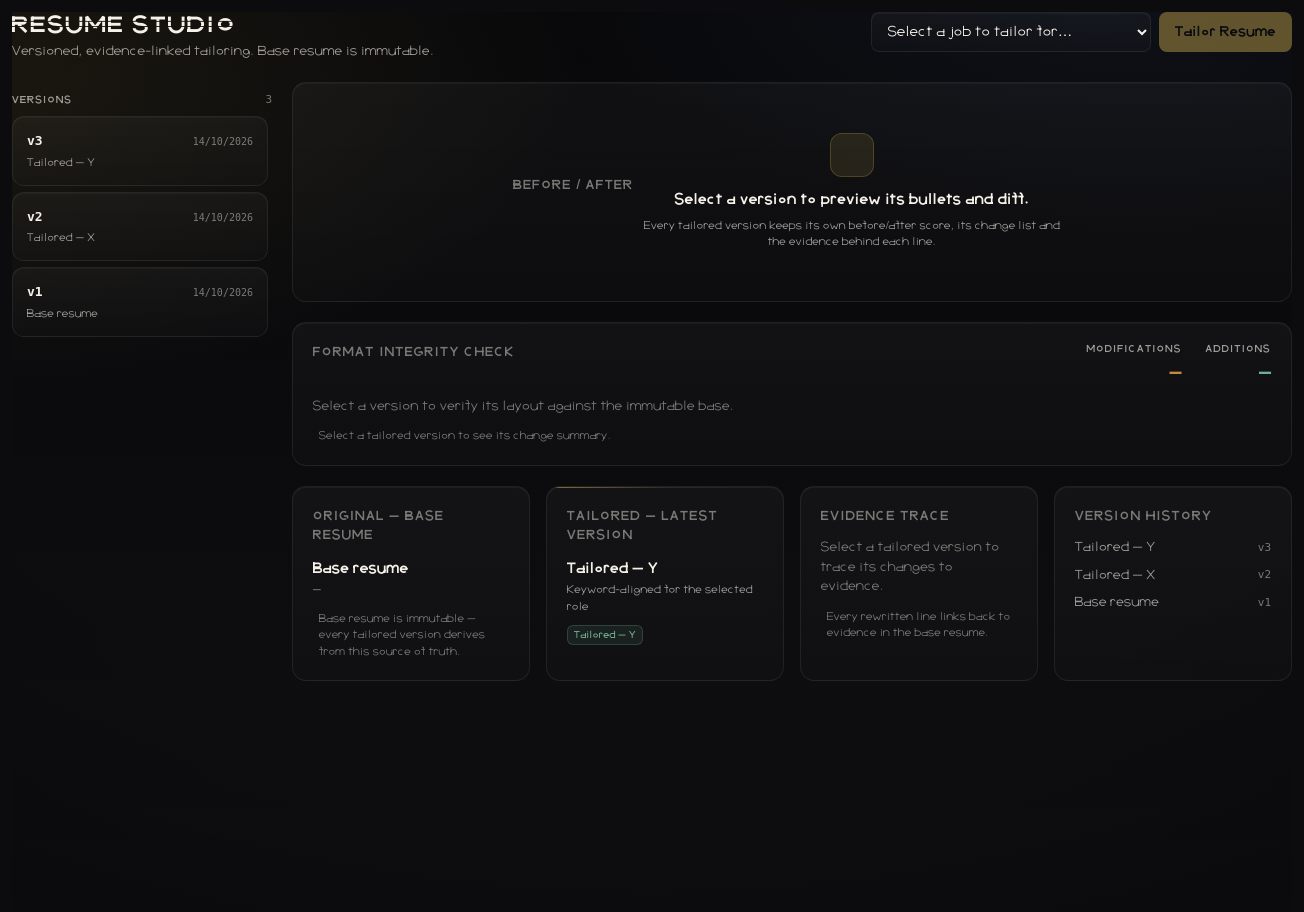
MV-resume-studio-004 — format integrity reflects a real signal › is green when the version's formatHash matches the base, amber when it differs
Check: the text with test id "integrity-status" shows "Select a version", box [313,400,734,413]
Note: Select the format-intact version → green "matches the base".
Click the button with test id "resume-version-card" at (140,227), box [12,192,268,261]
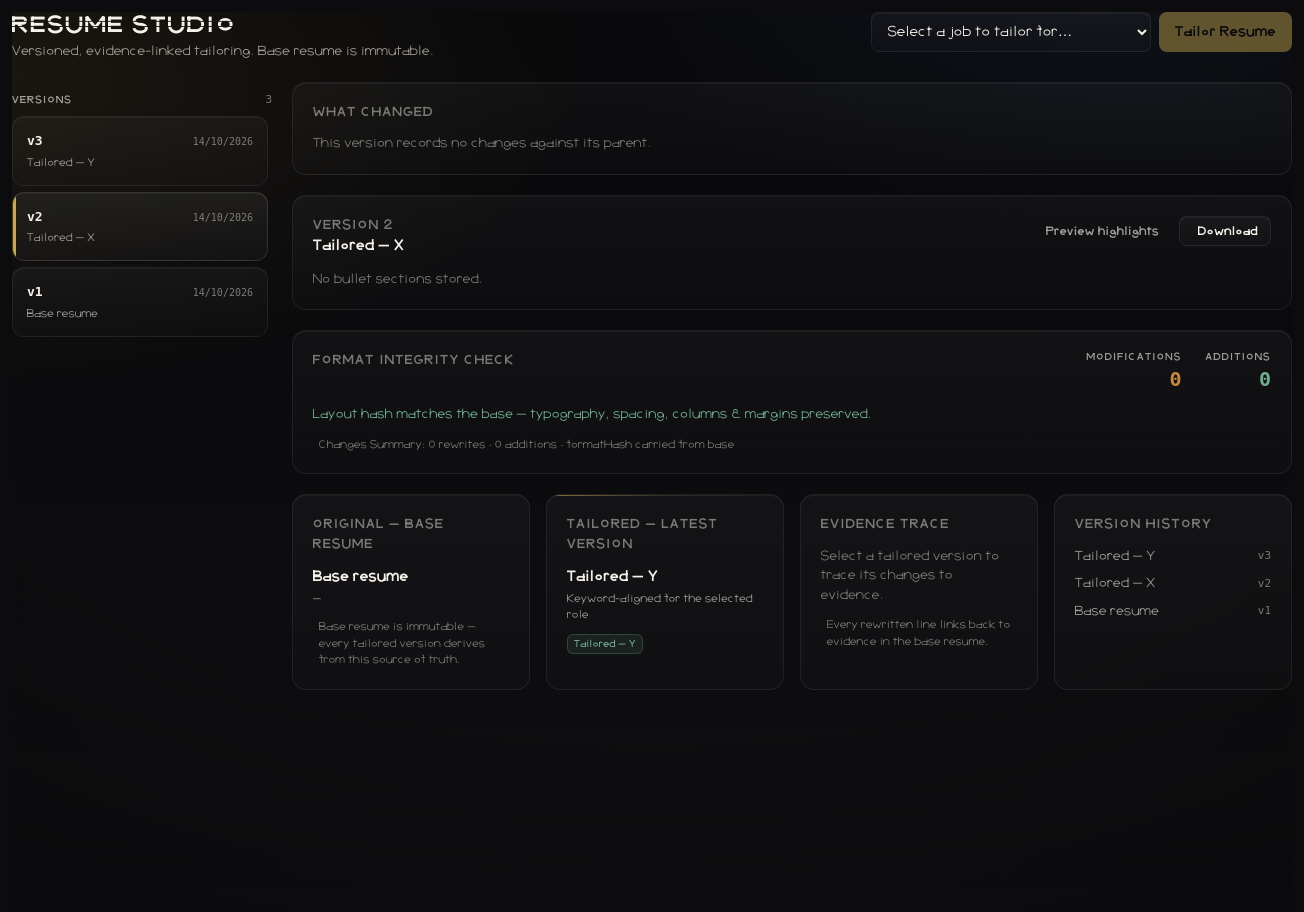
Check: the text with test id "integrity-status" shows "matches the base", box [313,408,872,421]
Note: Select the format-diverged version → amber "differs from the base".
Click the button with test id "resume-version-card" at (140,151), box [12,116,268,186]
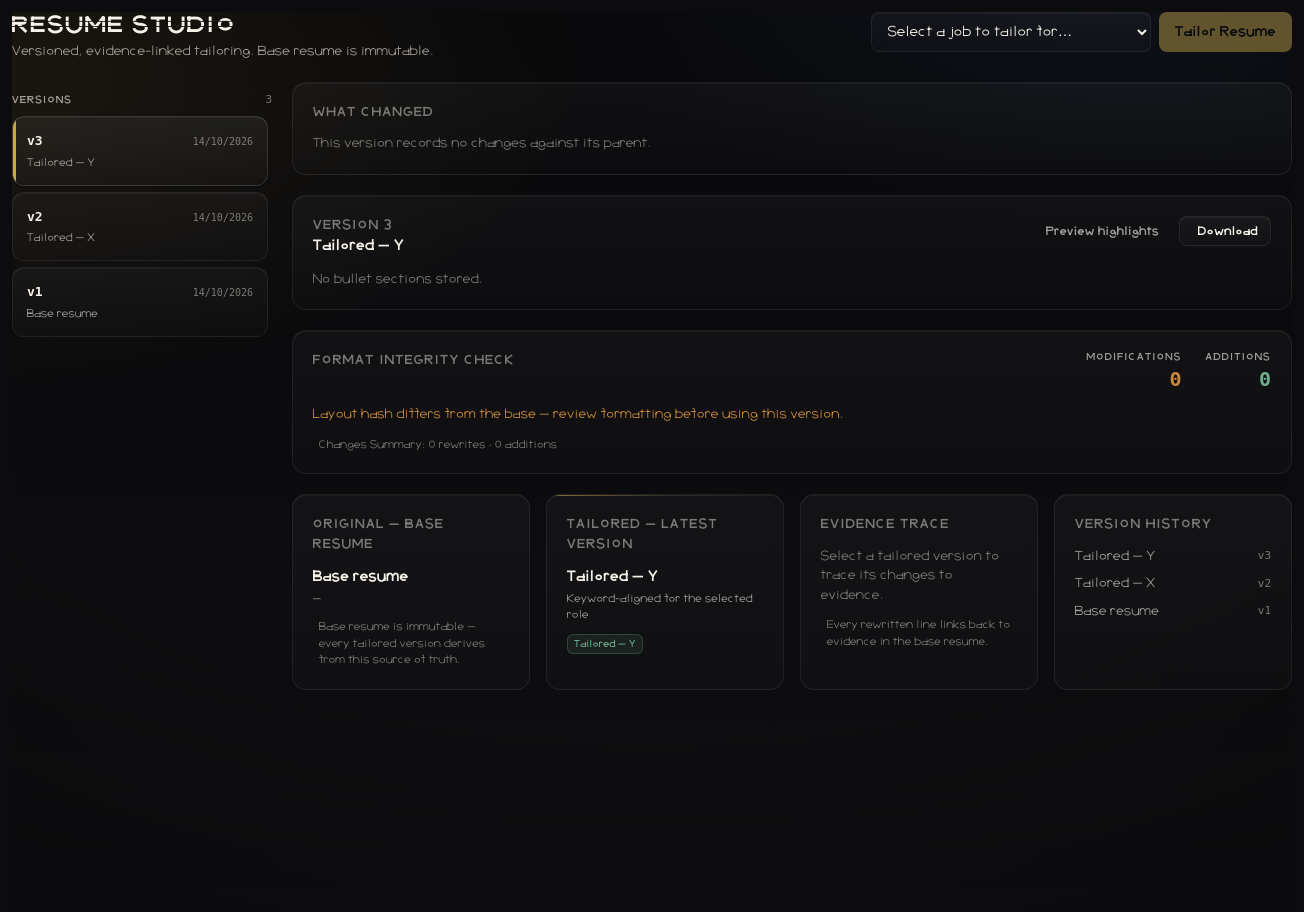
Check: the text with test id "integrity-status" shows "differs from the base", box [313,408,844,421]
